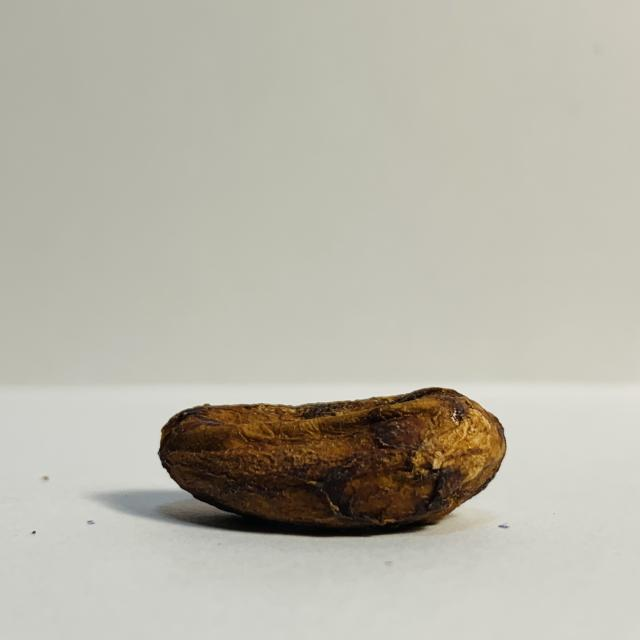Fine_cocoabeans: (0, 320, 553, 572)
